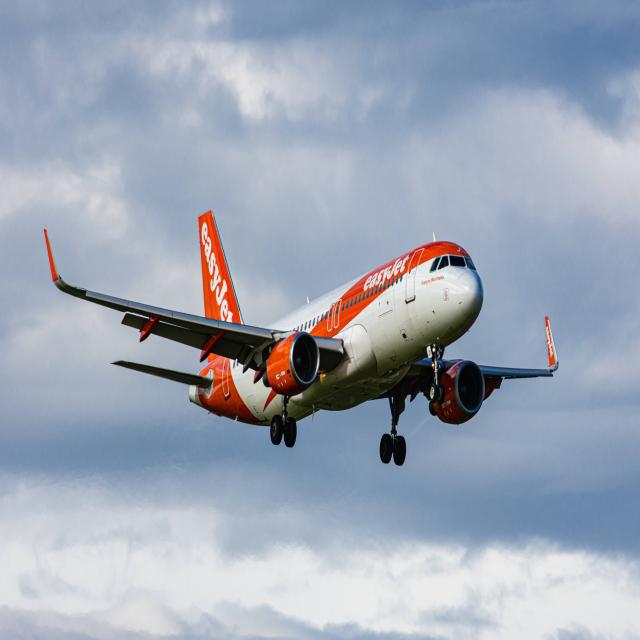aircraft: (24, 190, 638, 496)
